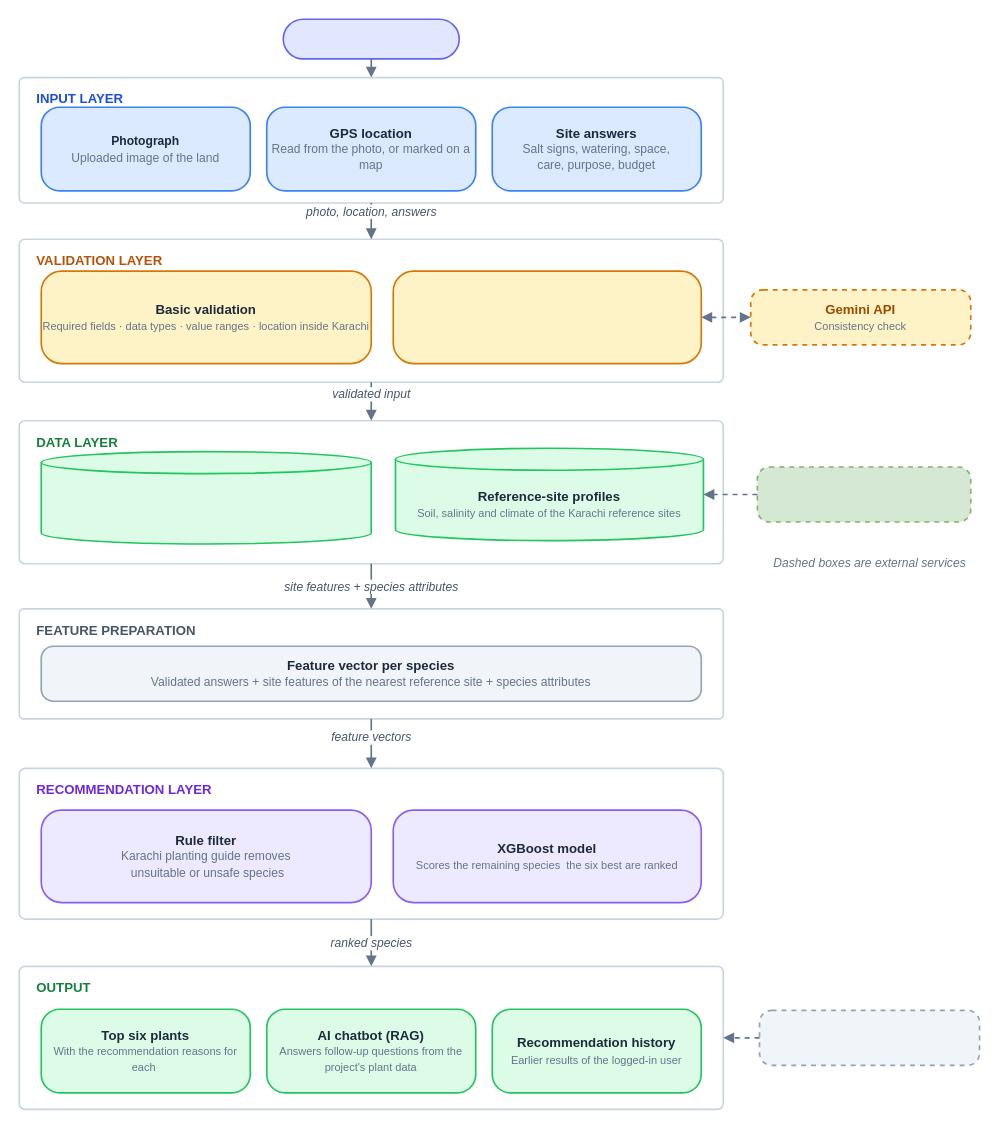
Image size: 1001x1130. Some labels were removed from this diagram. The centre of each missing label's shape, as x and y in pixels:
"Consistency check Photo and answers checked by the Gemini API" belongs at point (547, 317).
"Karachi species dataset Species attributes" belongs at point (206, 497).
"Open data sources SoilGrids, ISRIC salinity map," belongs at point (863, 494).
"User Web browser" belongs at point (371, 38).
"Weather API Current weather for planting and watering advice" belongs at point (869, 1037).
